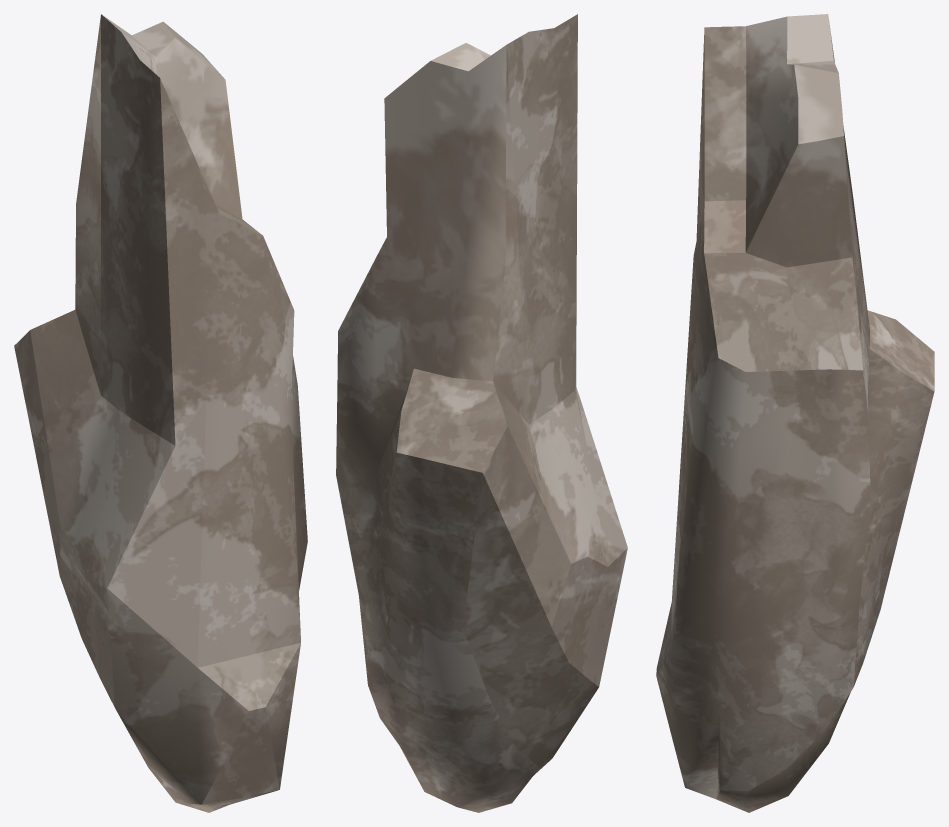
The model's file is Rock_06.fbx.
The picture shows the model from 3 angles, left to right: view 1: azimuth 30°, elevation 25°; view 2: azimuth 150°, elevation 25°; view 3: azimuth 270°, elevation 25°; orthographic projection. The views are drawn at different scales.
Visible parts, largest first — view 1: pCube5; view 2: pCube5; view 3: pCube5.
Part boxes in pixels (bbox=[...]): pCube5: bbox=[14, 14, 307, 812]; pCube5: bbox=[336, 14, 627, 812]; pCube5: bbox=[656, 14, 934, 812].
Size of the model in its own units: 92.72 by 324 by 107.
